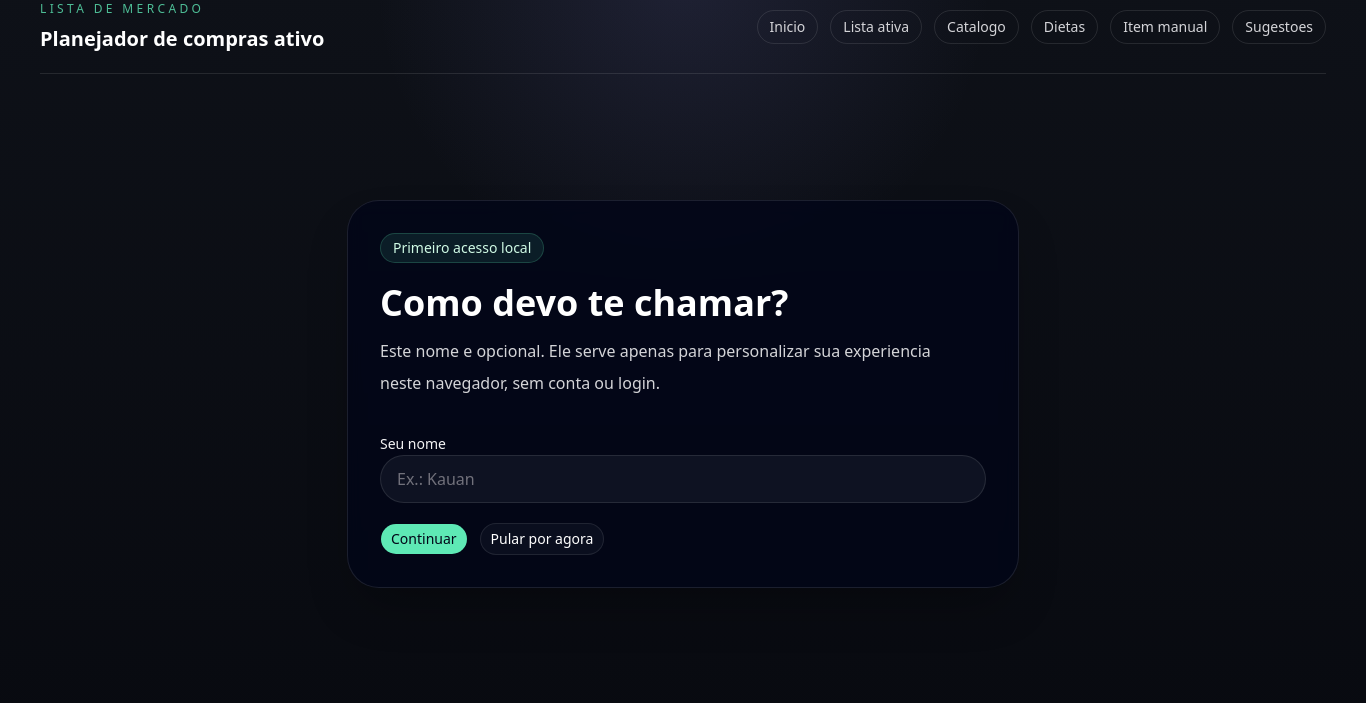
shopping-list workspace › adds individual diet products directly from the diet browser and keeps repeated-add behavior
The width and height of the screenshot is (1366, 703).
Click the button "Pular por agora" at [542, 539], box x1=480 y1=523 x2=604 y2=555
(page scrolled)
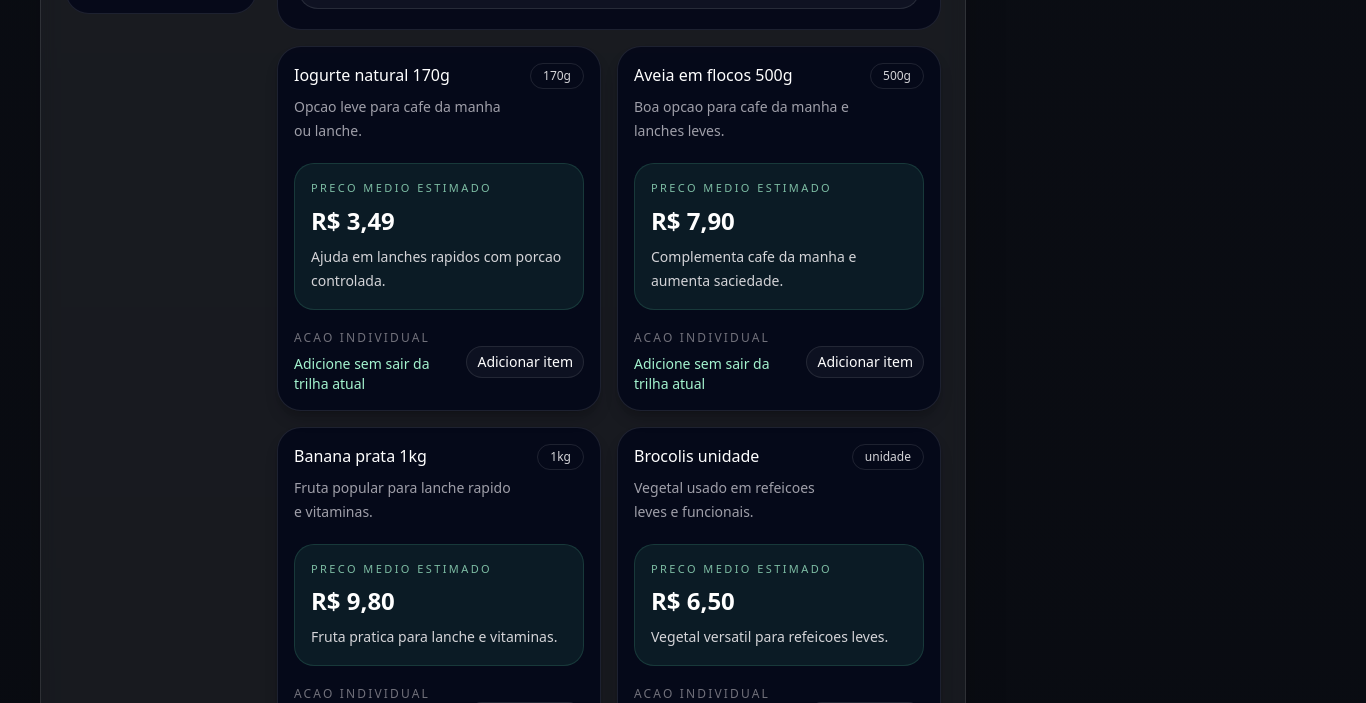
Click the button with aria-label "Adicionar Iogurte natural 170g da dieta a lista ativa" at [525, 362], box x1=466 y1=346 x2=584 y2=378
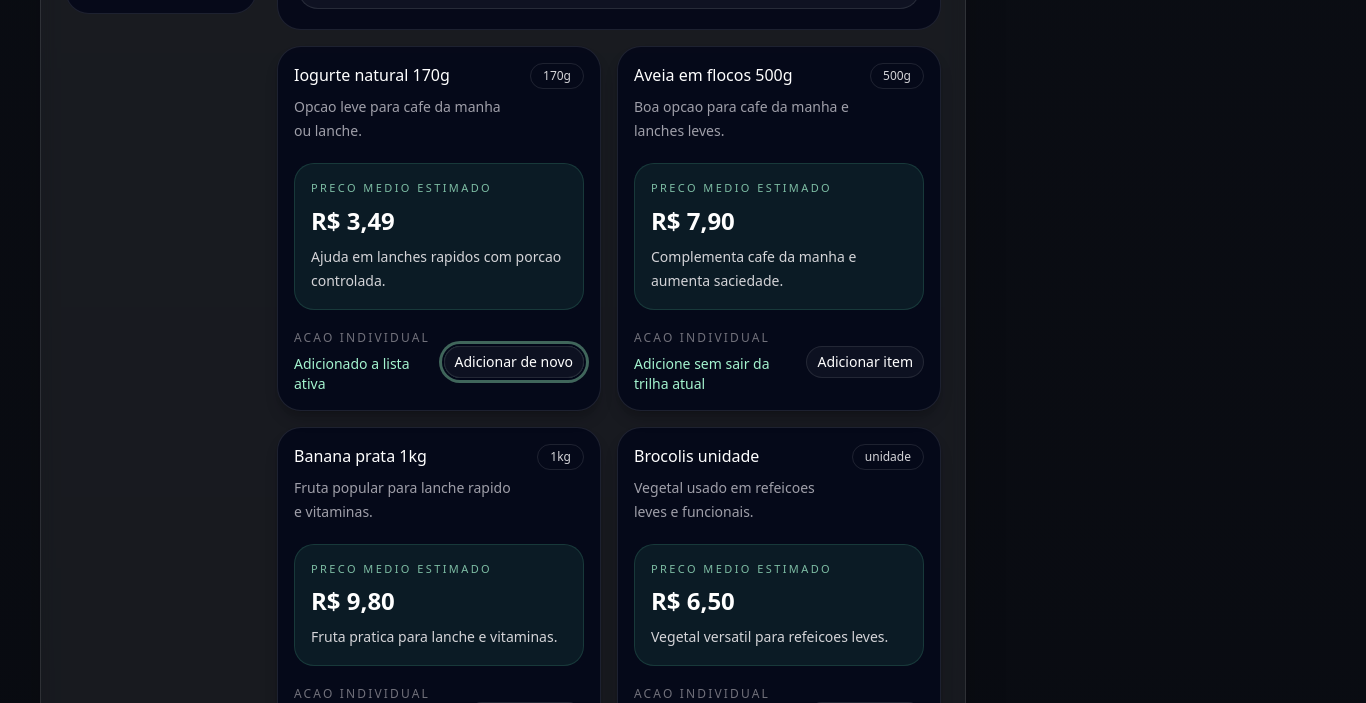
Result: the text "Iogurte natural 170g" is shown at x1=294 y1=64 x2=450 y2=86
Result: the text "Adicionado a lista ativa" is shown at x1=294 y1=354 x2=410 y2=392
Click the button with aria-label "Adicionar Iogurte natural 170g da dieta a lista ativa" at [514, 362], box x1=444 y1=346 x2=584 y2=378
(page scrolled)
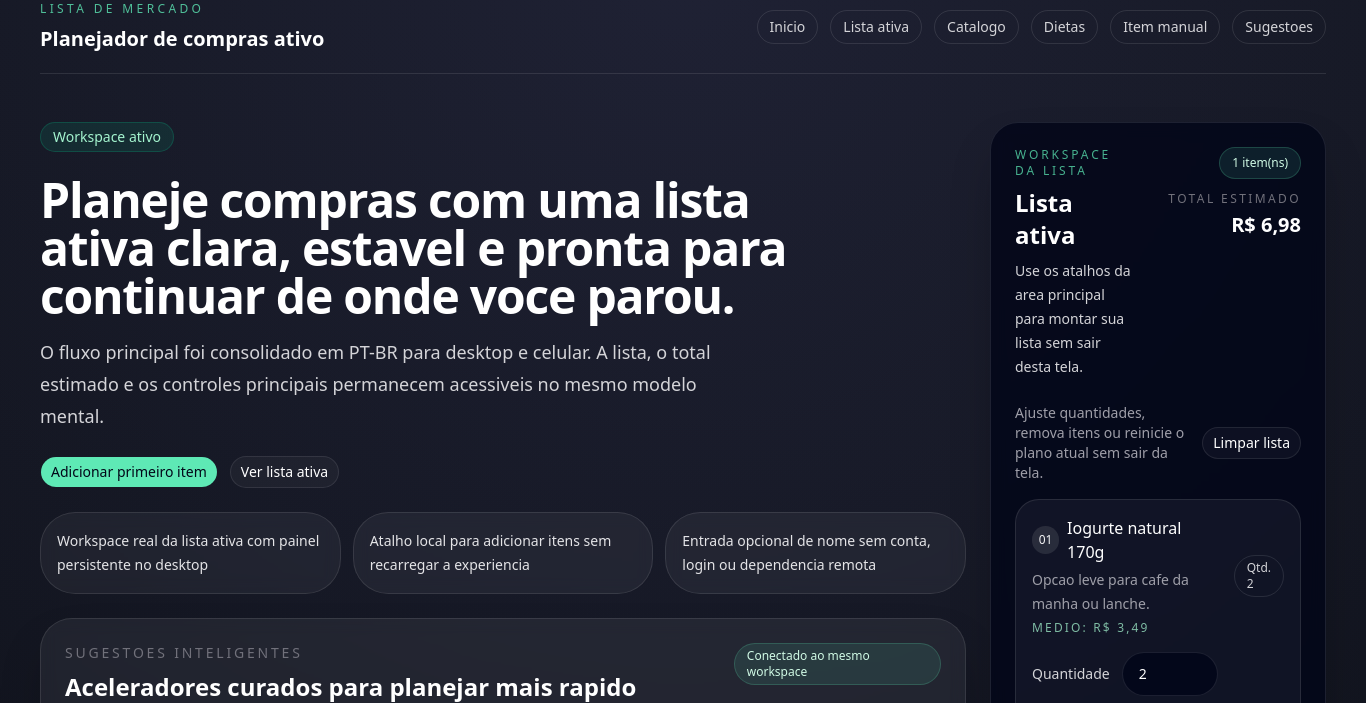
Result: the text "Qtd. 2" is shown at x1=1234 y1=555 x2=1284 y2=597
Result: the text "R$ 6,98" is shown at x1=1231 y1=211 x2=1301 y2=238
